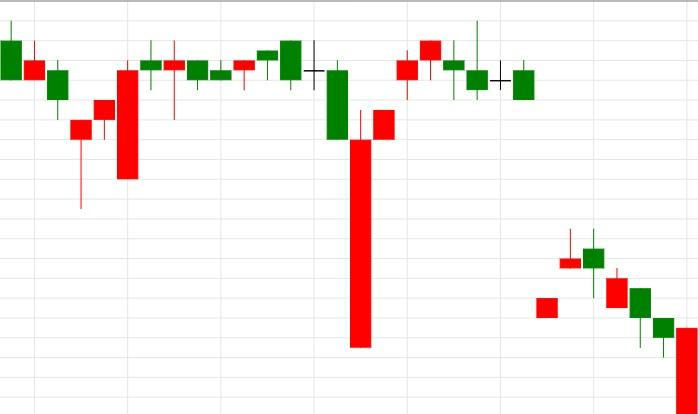hammer_rise: (1, 19, 92, 208)
